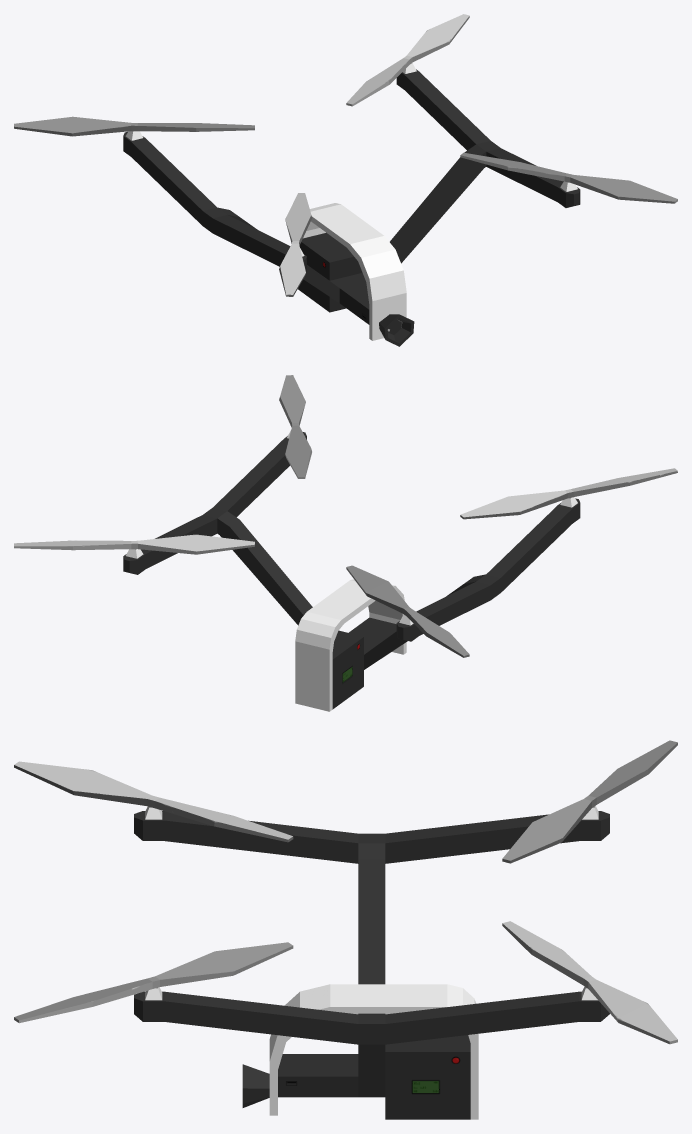
Rendered from cameraDrone.fbx.
The picture shows the model from 3 angles, top to bottom: view 1: azimuth 30°, elevation 25°; view 2: azimuth 150°, elevation 25°; view 3: azimuth 270°, elevation 25°; orthographic projection. The views are drawn at different scales.
Visible parts, largest first — view 1: Cube.008; view 2: Cube.008; view 3: Cube.008.
Part boxes in pixels (x1,y1,x2,y2): Cube.008: (14,14,677,346); Cube.008: (14,375,677,711); Cube.008: (14,740,677,1119).
Bounding box in the file's own units: 2652 × 913 × 2470.
